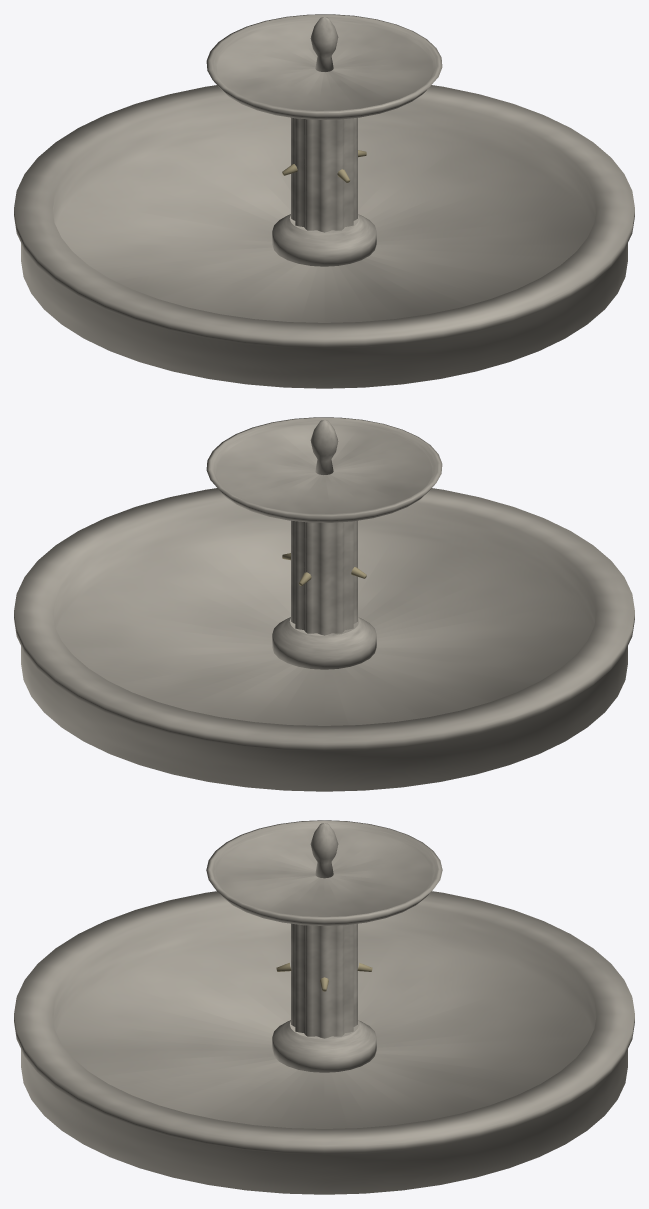
File: fountain.glb
The picture shows the model from 3 angles, top to bottom: view 1: azimuth 30°, elevation 25°; view 2: azimuth 150°, elevation 25°; view 3: azimuth 270°, elevation 25°; orthographic projection.
Parts seen in each view (by area): view 1: Fountain; view 2: Fountain; view 3: Fountain.
Part boxes in pixels (x1,y1,x2,y2): Fountain: (14,14,634,388); Fountain: (14,417,634,791); Fountain: (14,820,634,1194).
Bounding box in the file's own units: 5.36 × 2.32 × 5.36.
Materials: 2 (1 with a texture image).
